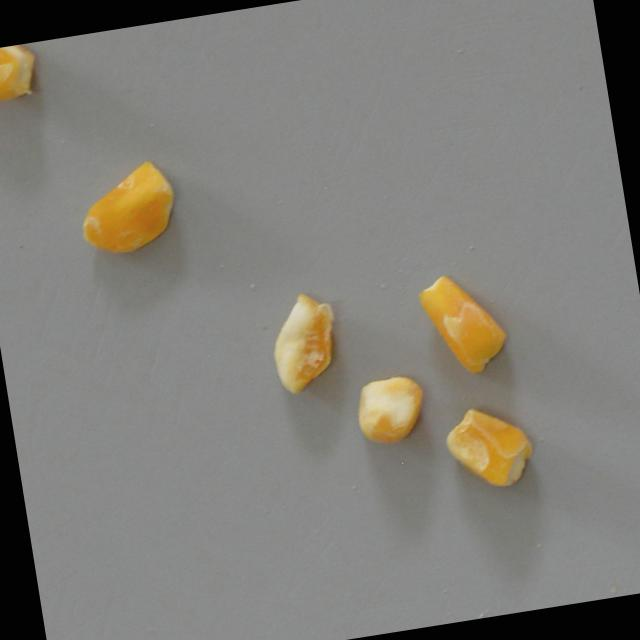pelicula: (396, 255, 529, 389), (59, 143, 193, 276), (240, 272, 373, 405), (425, 377, 558, 510), (0, 42, 42, 109)
